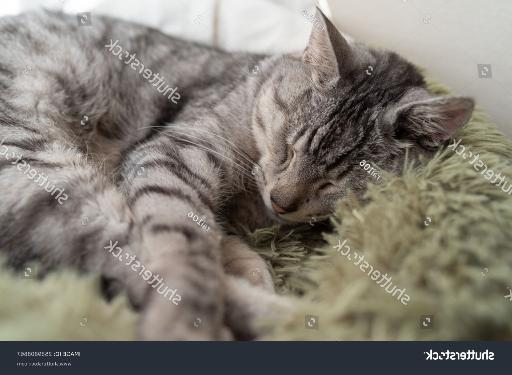cat_sleeping: (0, 8, 474, 341)
